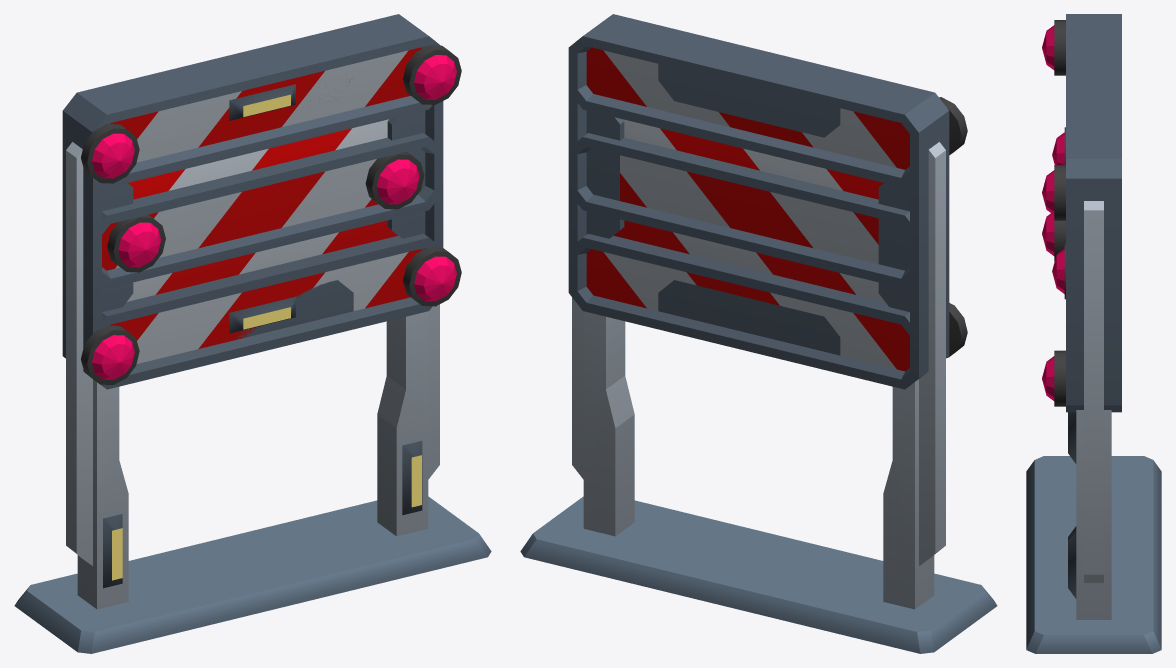
The model's file is Pared_Alta.FBX.
3 renders of one model, left to right at view 1: azimuth 30°, elevation 25°; view 2: azimuth 150°, elevation 25°; view 3: azimuth 270°, elevation 25°, orthographic. The views are drawn at different scales.
Visible parts, largest first — view 1: Pared_Alta_01, Pared_Alta_02; view 2: Pared_Alta_01, Pared_Alta_02; view 3: Pared_Alta_01, Pared_Alta_02.
Boxes of the visible parts, x1,y1,x2,y2 form: Pared_Alta_01: (14,14,491,653); Pared_Alta_02: (62,46,443,606); Pared_Alta_01: (520,14,997,653); Pared_Alta_02: (568,36,949,607); Pared_Alta_01: (1026,14,1161,653); Pared_Alta_02: (1052,127,1121,619).
Size of what is drawn, in the model's own units: 260 by 80 by 309.
